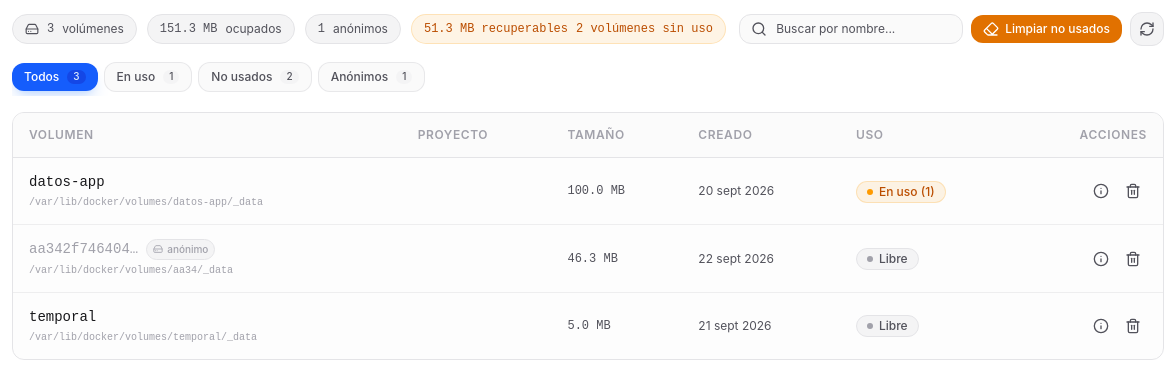
VolumesView › filtra por volúmenes anónimos
This screenshot has width=1176, height=377.
Expected: the text "datos-app" is shown, [29,172,105,192]
Click the button "Anónimos 1": [372, 77] box [318,62,425,92]
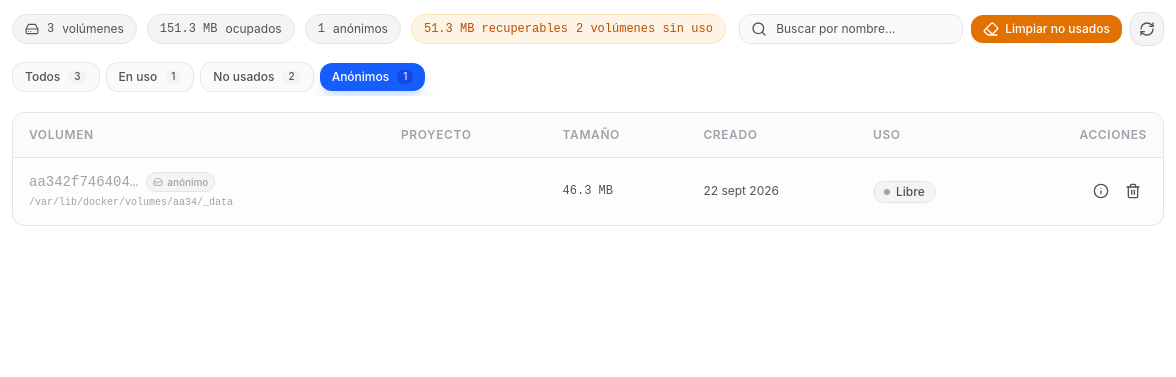
Expected: the text "aa342f746404…" is shown, [29,172,138,192]
Expected: the text "datos-app" is gone
Expected: the text "temporal" is gone
